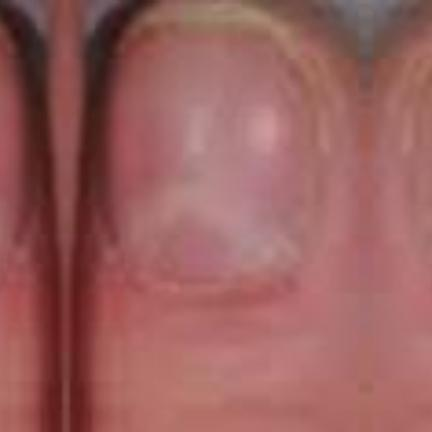Nail: (101, 0, 331, 292), (399, 35, 432, 274), (0, 20, 29, 269)
